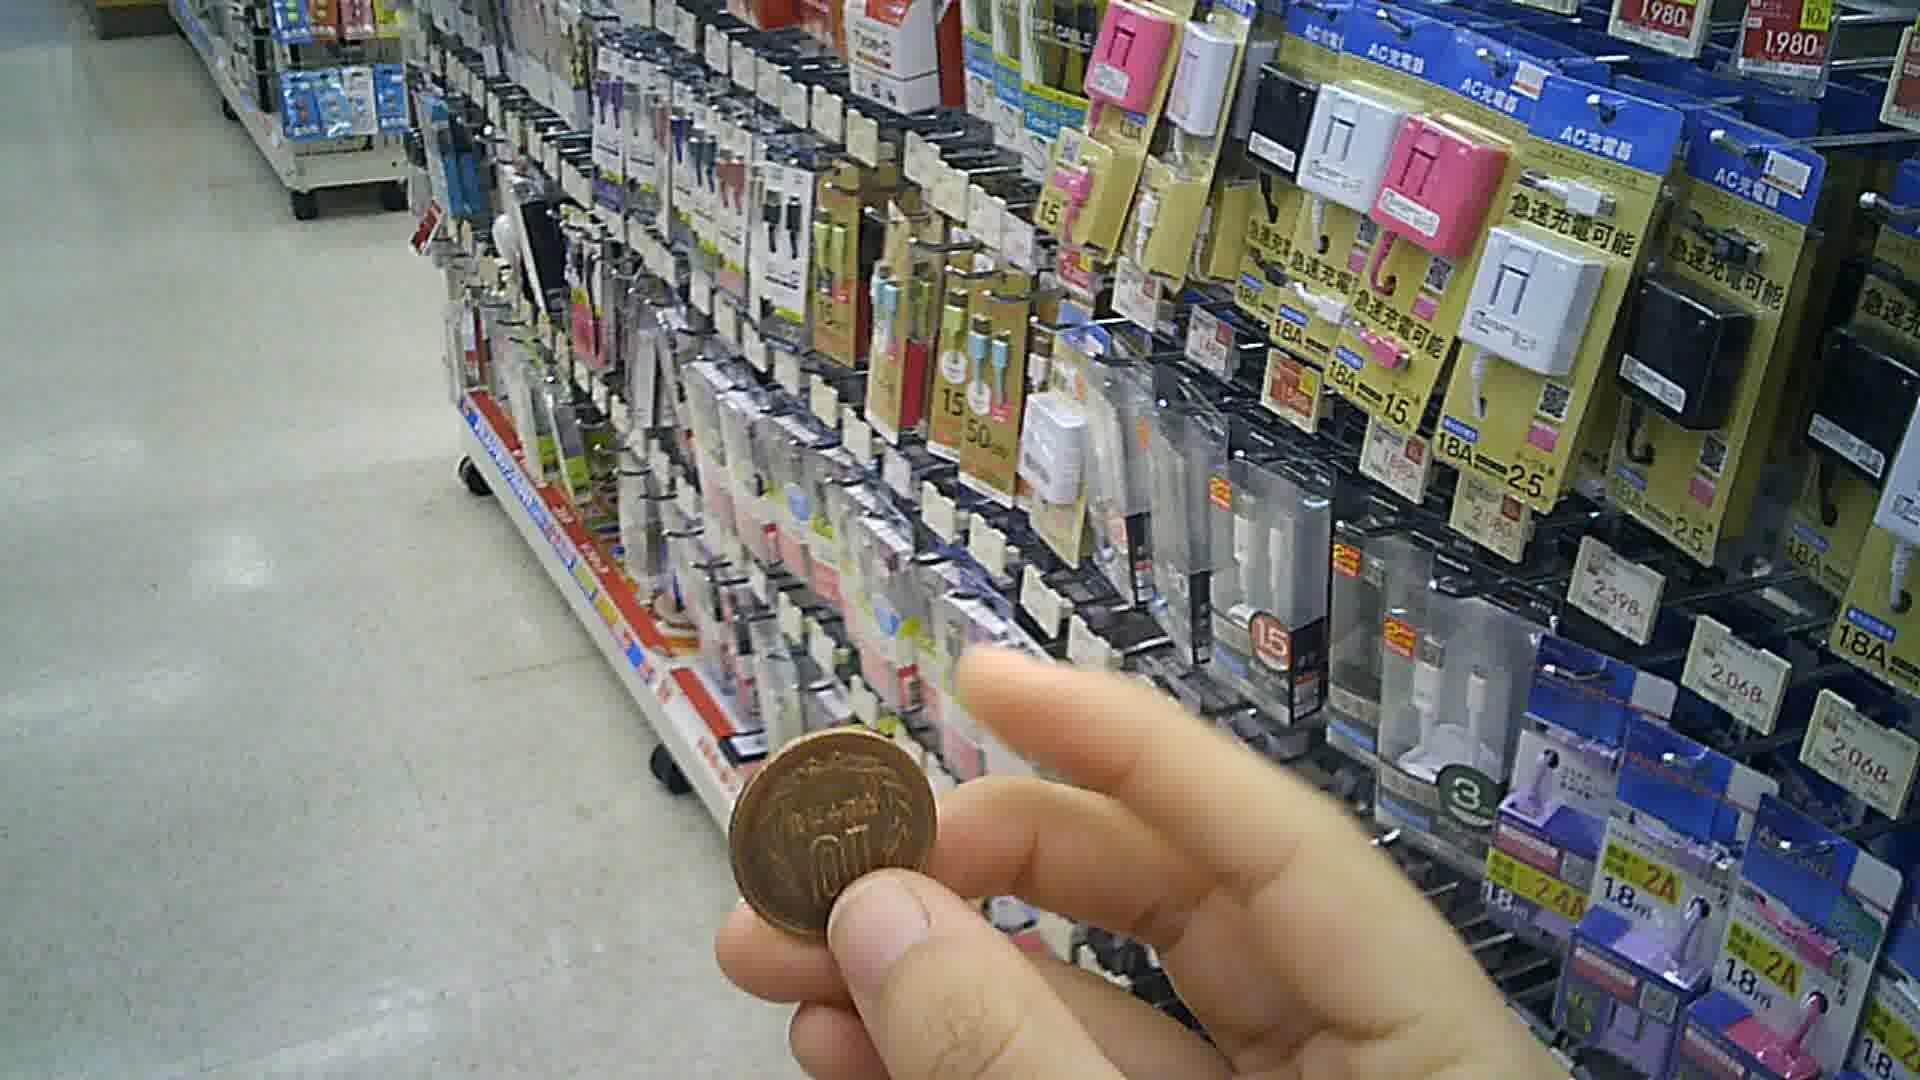10 Yen: (727, 723, 942, 936)
